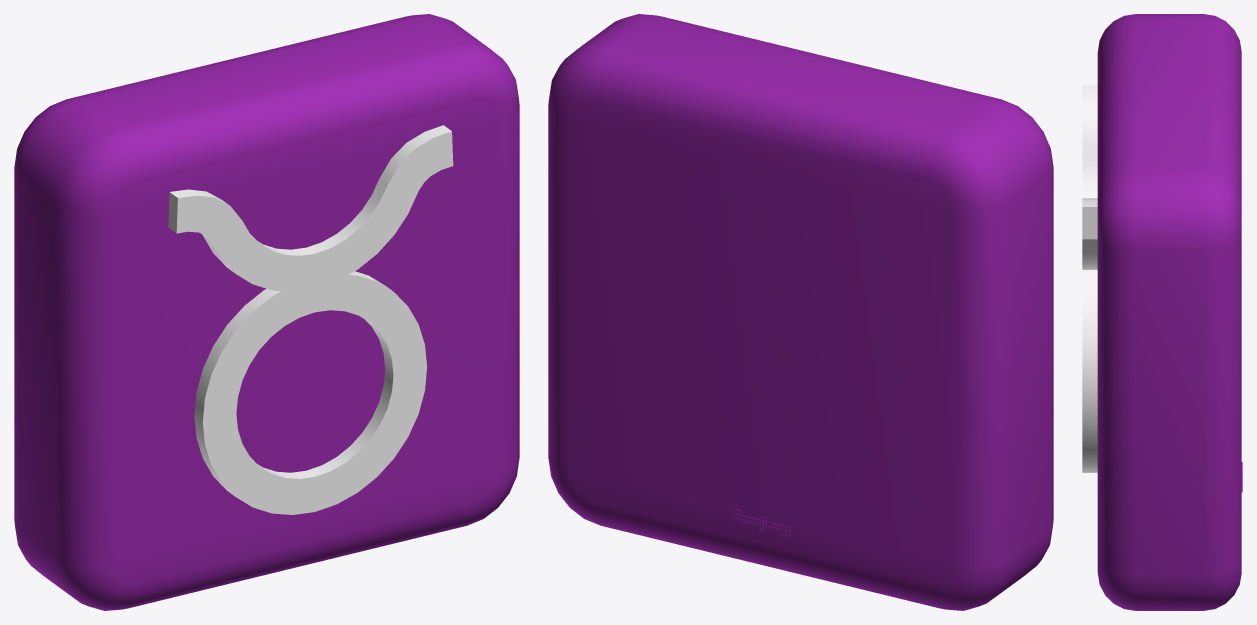
Rendered from taurus.fbx.
3 renders of one model, left to right at view 1: azimuth 30°, elevation 25°; view 2: azimuth 150°, elevation 25°; view 3: azimuth 270°, elevation 25°, orthographic. The views are drawn at different scales.
Visible parts, largest first — view 1: Cube.6400; view 2: Cube.6400; view 3: Cube.6400.
Part boxes in pixels (left/top/right/bottom): Cube.6400: left=14, top=14, right=519, bottom=610; Cube.6400: left=548, top=14, right=1053, bottom=610; Cube.6400: left=1082, top=14, right=1242, bottom=610.
Bounding box in the file's own units: 220 × 220 × 73.37.
1 material, 1 textured.
